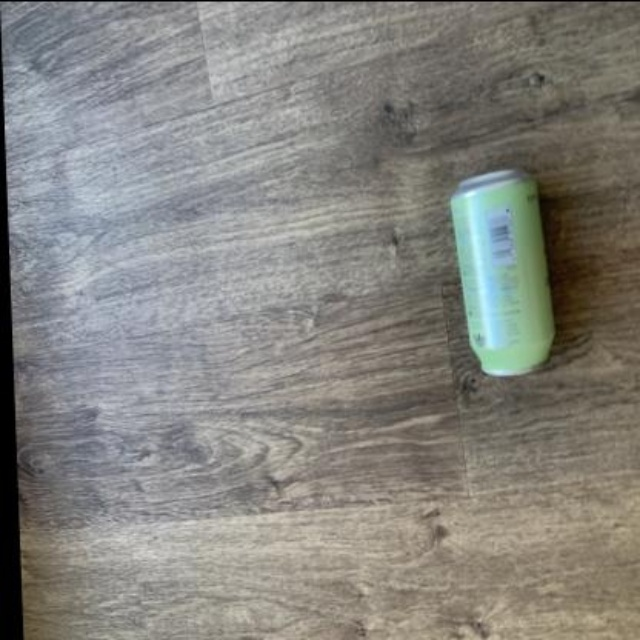trash: (451, 169, 552, 374)
